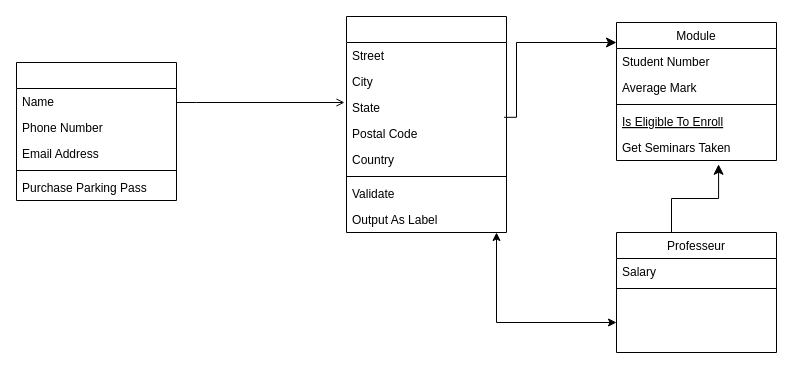
The diagram is 793 pixels wide and 369 high, and some of its shapes have lost their labels. The box of each missing label's shape, as (x1, y1, x2, y2) in pixels:
Bootcamp: (346, 16, 506, 232)
Élève: (16, 62, 176, 200)
